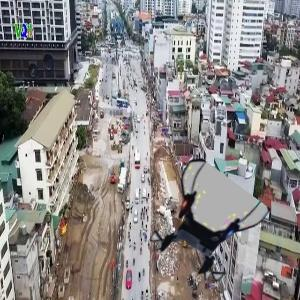drone: (154, 174, 258, 278)
